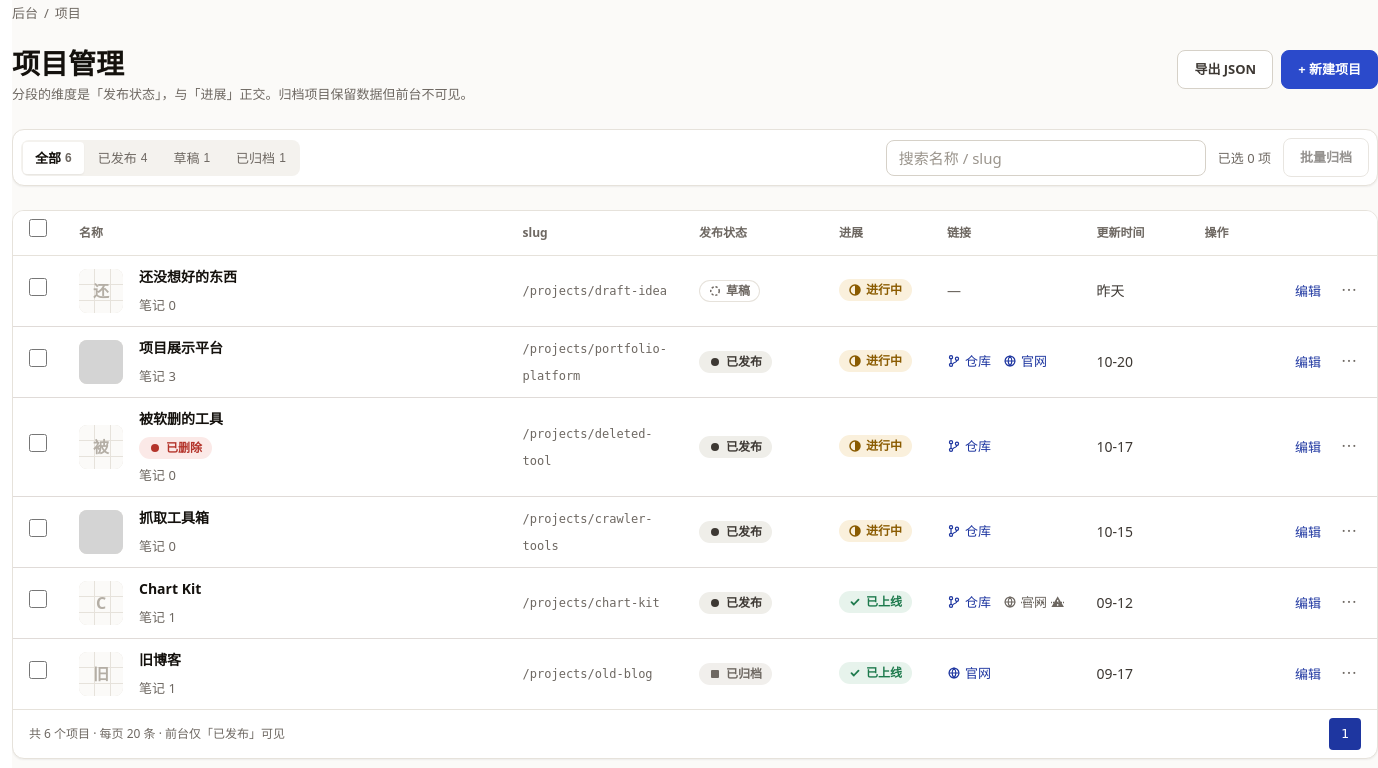
Test: ProjectListView › 批量归档部分失败：逐条累计，文案列出失败项名称，成功项照常归档
The width and height of the screenshot is (1378, 768).
Check: the link "项目展示平台" is shown, box [139,334,223,360]
Click the checkbox named "选择 项目展示平台": point(38, 358) [29,348,47,366]
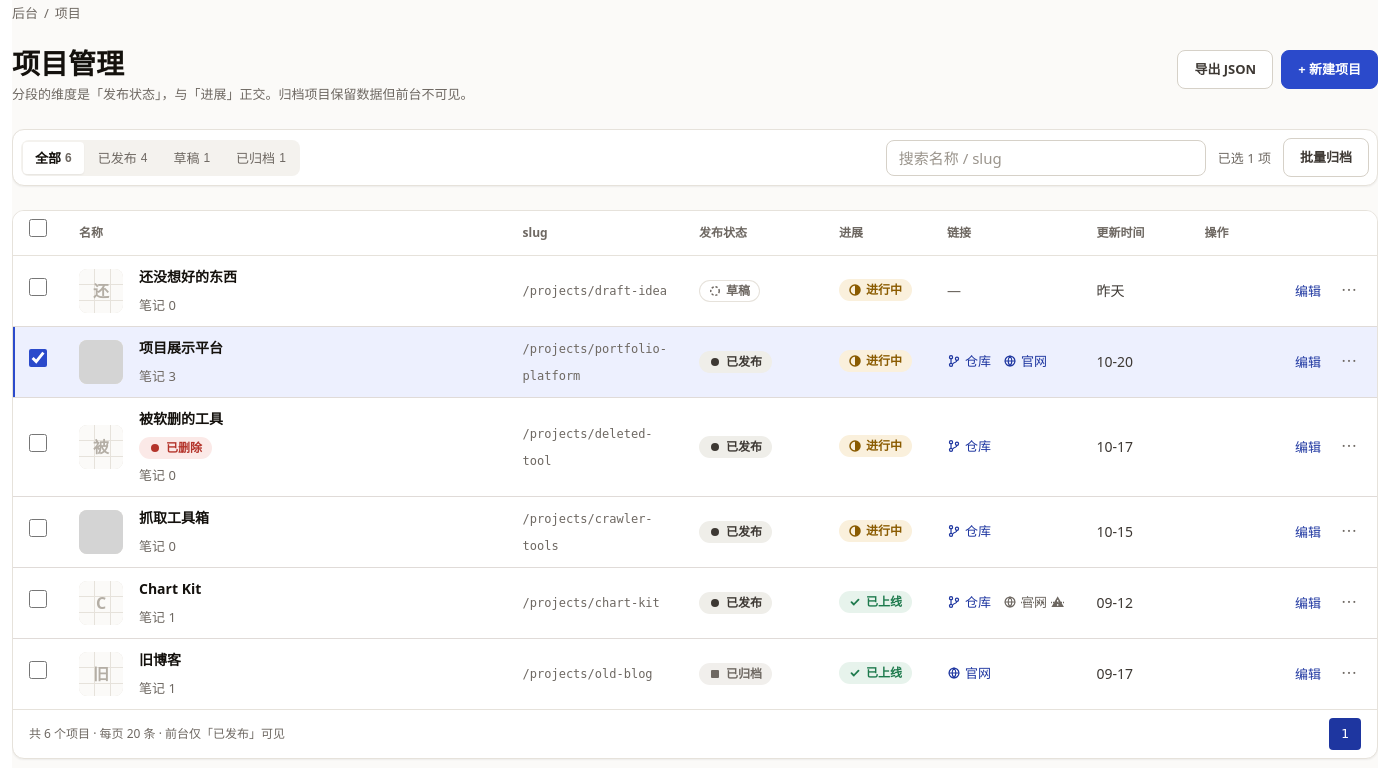
Click the checkbox named "选择 抓取工具箱": point(38, 528) [29,518,47,536]
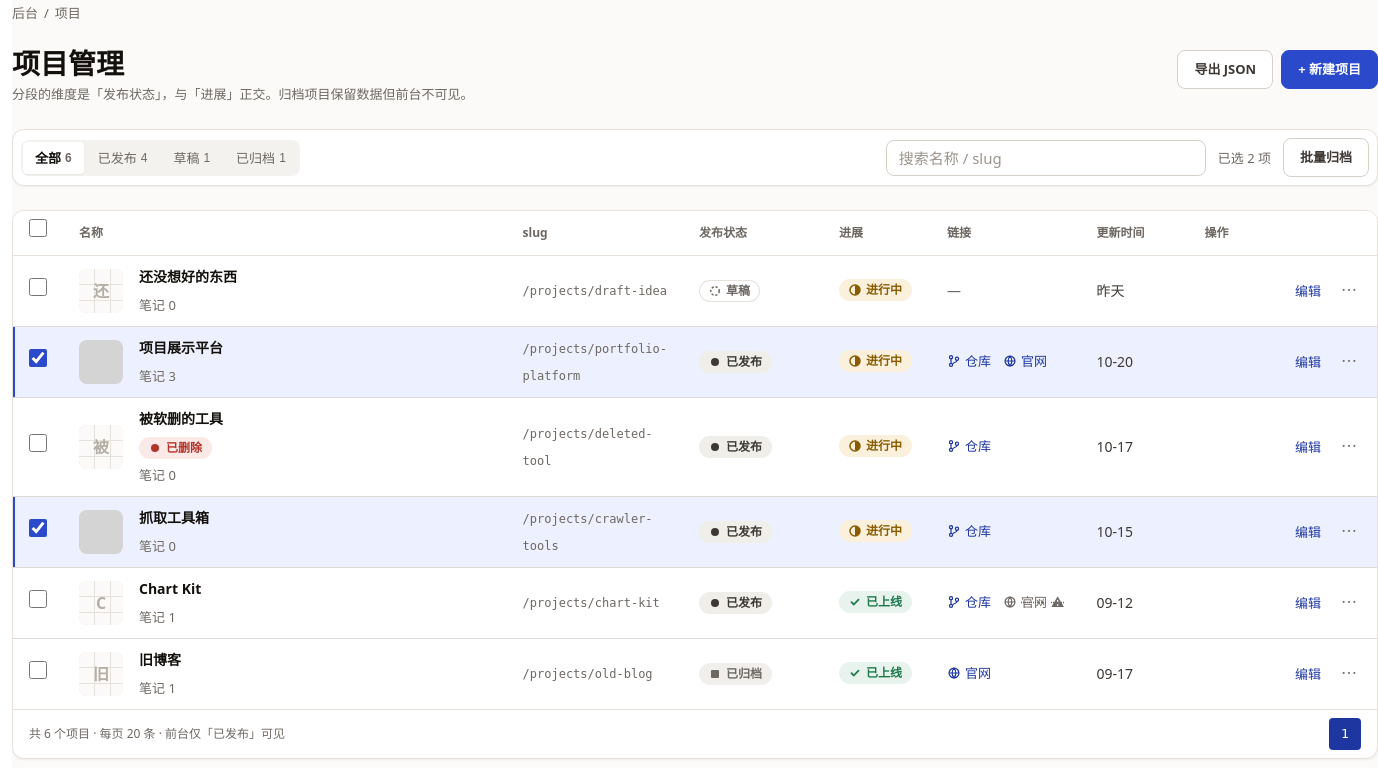
Click the button "批量归档": point(1326, 158) [1283,138,1369,177]
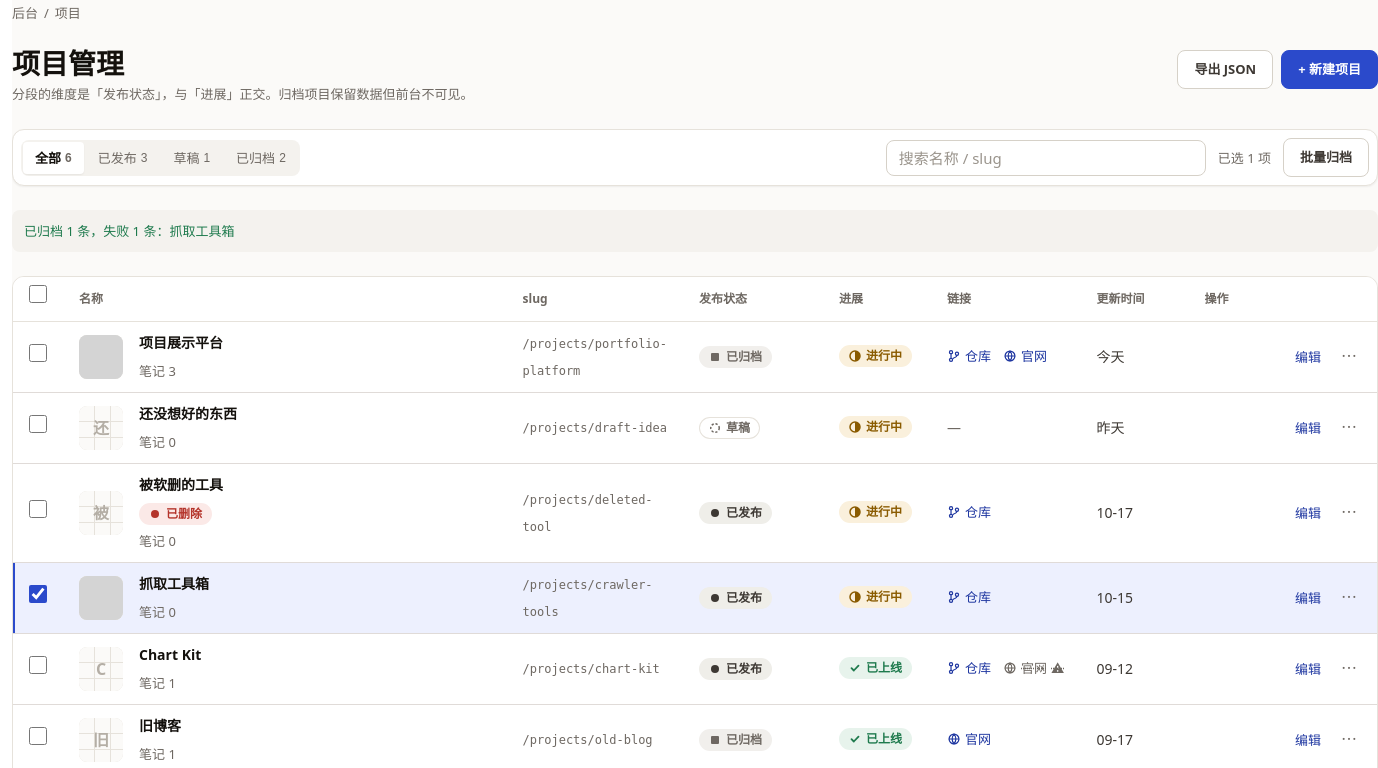
Check: the row that starts with "项目展示平台" is shown, box [13,321,1377,392]
Check: the text "已归档" in the row of "项目展示平台" is shown, box [726,348,762,364]
Check: the message reads "已归档 1 条，失败 1 条：抓取工具箱", box [24,222,234,240]
